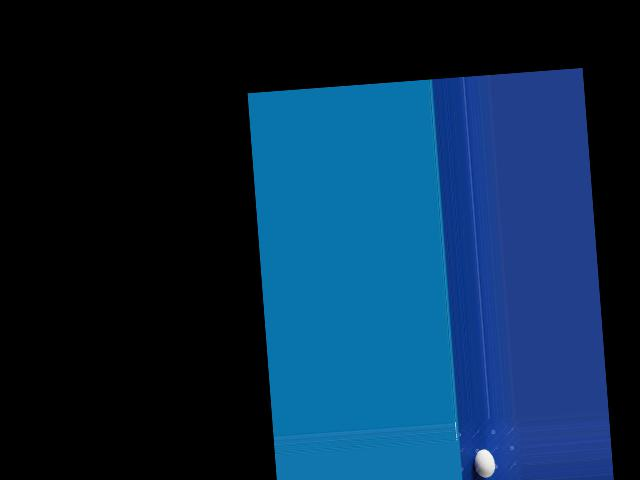egg: (473, 448, 495, 478)
